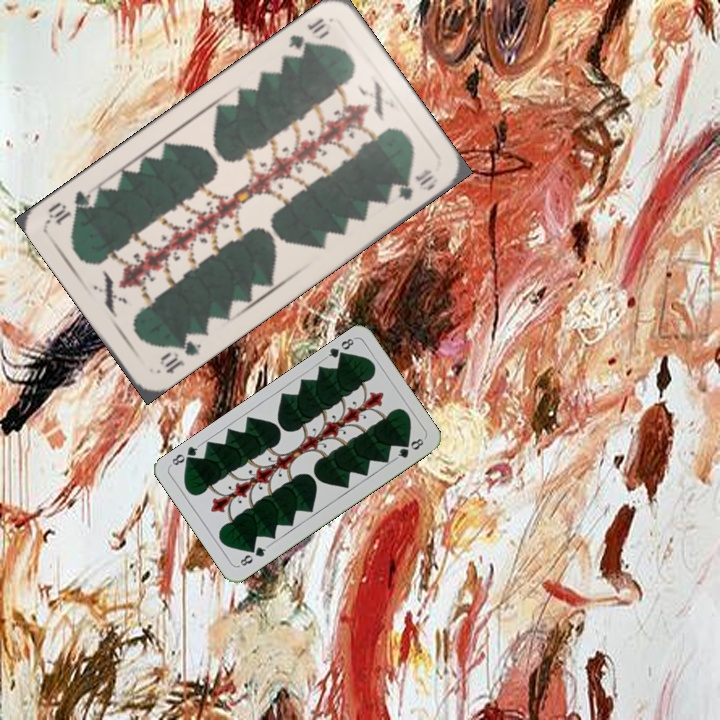G10: (155, 329, 204, 377), (284, 14, 329, 54)
G8: (321, 334, 357, 364), (235, 541, 271, 569)
